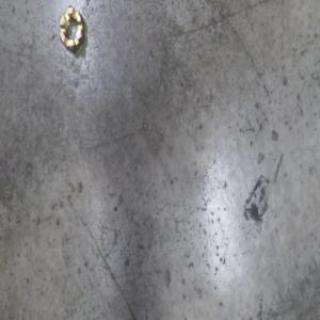Nuttrack_idkeyframe: (57, 7, 86, 55)
